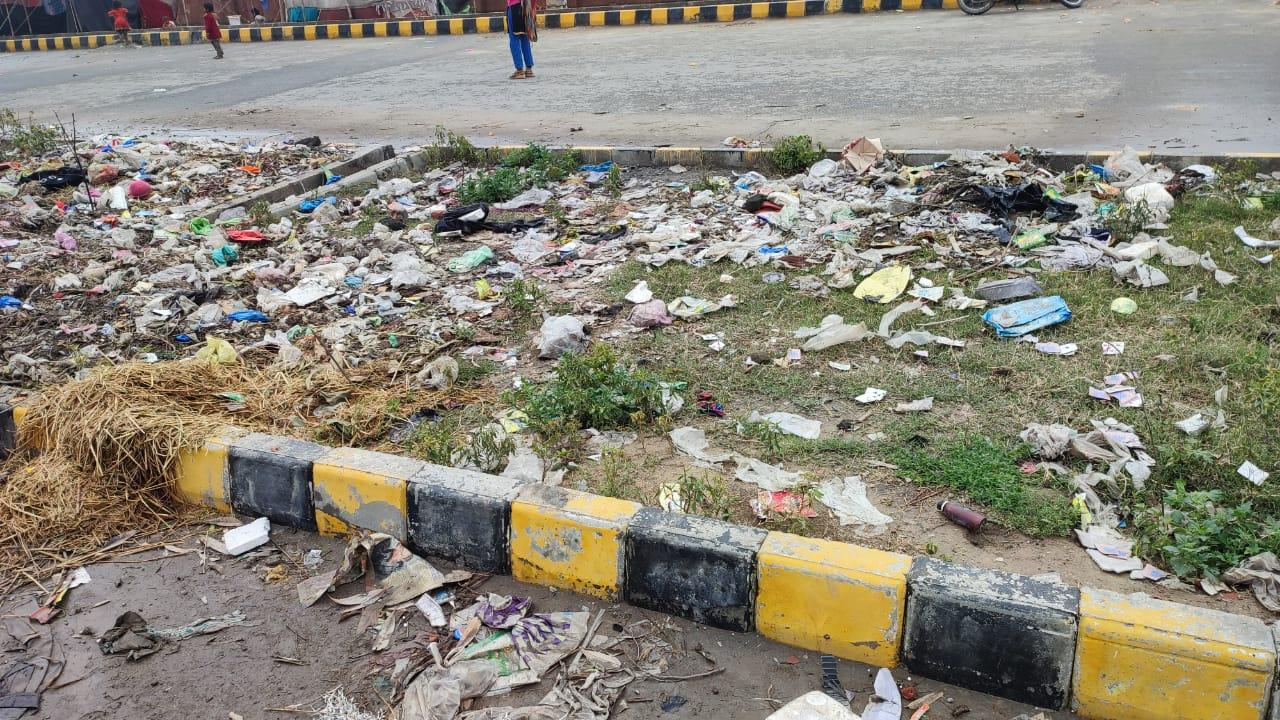garbage: (6, 137, 1280, 608)
